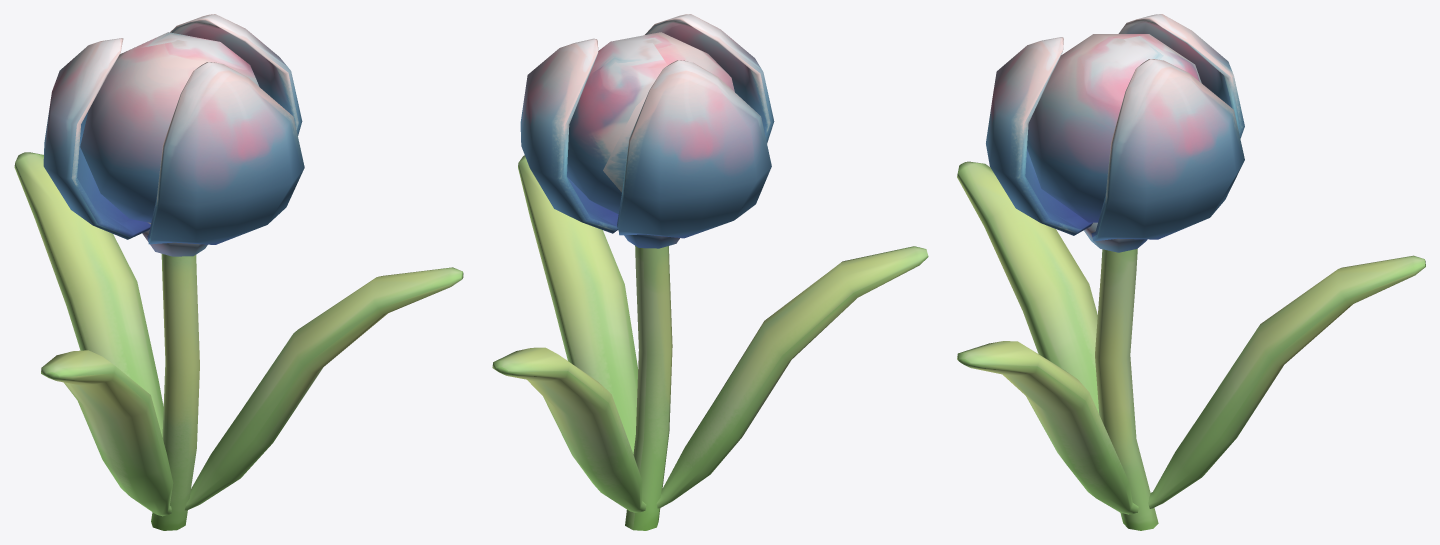
File: Flower_Blue.fbx
3 renders of one model, left to right at view 1: azimuth 30°, elevation 25°; view 2: azimuth 150°, elevation 25°; view 3: azimuth 270°, elevation 25°, orthographic. The views are drawn at different scales.
Parts seen in each view (by area): view 1: Flower_Leaf.001, Flower_Petal1.001, Flower_Pistil.001, Flower_Petal2.001, Flower_Stem.001, Flower_Receptacles.001; view 2: Flower_Leaf.001, Flower_Petal2.001, Flower_Pistil.001, Flower_Stem.001, Flower_Petal1.001, Flower_Receptacles.001; view 3: Flower_Leaf.001, Flower_Petal2.001, Flower_Pistil.001, Flower_Stem.001, Flower_Petal1.001, Flower_Receptacles.001.
Boxes of the visible parts, box(x1,y1,x2,y2) form: Flower_Leaf.001: box(14, 152, 463, 516); Flower_Petal1.001: box(147, 62, 304, 244); Flower_Pistil.001: box(80, 32, 259, 222); Flower_Petal2.001: box(43, 14, 302, 239); Flower_Stem.001: box(151, 254, 199, 530); Flower_Receptacles.001: box(142, 222, 207, 256); Flower_Leaf.001: box(492, 155, 928, 512); Flower_Petal2.001: box(520, 38, 771, 238); Flower_Pistil.001: box(567, 32, 734, 214); Flower_Stem.001: box(625, 245, 672, 530); Flower_Petal1.001: box(645, 14, 774, 143); Flower_Receptacles.001: box(624, 234, 679, 248); Flower_Leaf.001: box(957, 161, 1425, 514); Flower_Petal2.001: box(1091, 14, 1244, 241); Flower_Pistil.001: box(1027, 34, 1201, 222); Flower_Stem.001: box(1095, 248, 1158, 530); Flower_Petal1.001: box(986, 37, 1092, 235); Flower_Receptacles.001: box(1084, 222, 1147, 252).
Size of the model in its own units: 48.22 by 54.22 by 47.51.
6 materials, 6 textured.
